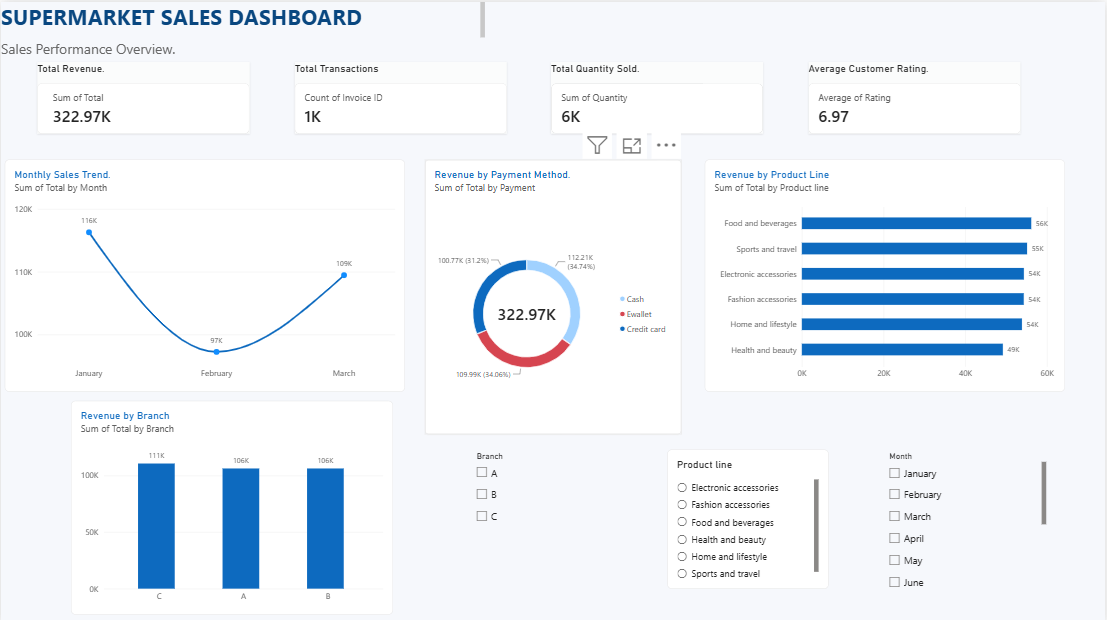

This screenshot's page, from the dashboard's own definition file:
{"tool":"powerbi","page":{"name":"Page 1","canvas":[1920,1080],"ordinal":0},"visuals":[{"type":"cardVisual","title":"Total Revenue.","fields":{"Data":["Sum(supermarket_sales.Total)"]},"box":[62,104,369.2,125],"z":0},{"type":"cardVisual","title":"Total Transactions","fields":{"Data":["CountNonNull(supermarket_sales.Invoice ID)"]},"box":[509.9,104,369,125],"z":1000},{"type":"cardVisual","title":"Total Quantity Sold.","fields":{"Data":["Sum(supermarket_sales.Quantity)"]},"box":[957.5,104,369,125],"z":2000},{"type":"cardVisual","title":"Average Customer Rating.","fields":{"Data":["Avg(supermarket_sales.Rating)"]},"box":[1405.1,104,369,125],"z":3000},{"type":"clusteredBarChart","title":"Revenue by Product Line","fields":{"Category":["supermarket_sales.Product line"],"Y":["Sum(supermarket_sales.Total)"]},"box":[1224,274,626,404],"z":4000},{"type":"clusteredColumnChart","title":"Revenue by Branch","fields":{"Category":["supermarket_sales.Branch"],"Y":["Sum(supermarket_sales.Total)"]},"box":[122,694,560,372],"z":5000},{"type":"lineChart","title":"Monthly Sales Trend.","fields":{"Category":["supermarket_sales.Date.Variation.Date Hierarchy.Month"],"Y":["Sum(supermarket_sales.Total)"]},"box":[6,274,696,404],"z":6000},{"type":"donutChart","title":"Revenue by Payment Method.","fields":{"Category":["supermarket_sales.Payment"],"Y":["Sum(supermarket_sales.Total)"]},"box":[738,274,446,478],"z":7000},{"type":"textbox","box":[0,0,841.5,65.1],"z":8000},{"type":"listSlicer","fields":{"Values":["supermarket_sales.Product line"]},"box":[1158,778,280.8,242],"z":9000},{"type":"slicer","fields":{"Values":["supermarket_sales.Branch"]},"box":[820,780,280.8,242.3],"z":10000},{"type":"textbox","box":[0,65.4,353.8,40.4],"z":11000},{"type":"slicer","fields":{"Values":["supermarket_sales.Date.Variation.Date Hierarchy.Month"]},"box":[1536,780,280.8,242],"z":12000}]}

Visuals, with their boxes in screenshot pixels (x1, y1, x2, y2), scaled from the page's 1920x1080 canvas onto the 1107x620 screenshot:
"Total Revenue." cardVisual: bbox=[36, 60, 249, 131]
"Total Transactions" cardVisual: bbox=[294, 60, 507, 131]
"Total Quantity Sold." cardVisual: bbox=[552, 60, 765, 131]
"Average Customer Rating." cardVisual: bbox=[810, 60, 1023, 131]
"Revenue by Product Line" clusteredBarChart: bbox=[706, 157, 1067, 389]
"Revenue by Branch" clusteredColumnChart: bbox=[70, 398, 393, 612]
"Monthly Sales Trend." lineChart: bbox=[3, 157, 405, 389]
"Revenue by Payment Method." donutChart: bbox=[426, 157, 683, 432]
textbox: bbox=[0, 0, 485, 37]
listSlicer - supermarket_sales.Product line: bbox=[668, 447, 830, 586]
slicer - supermarket_sales.Branch: bbox=[473, 448, 635, 587]
textbox: bbox=[0, 38, 204, 61]
slicer - supermarket_sales.Date.Variation.Date Hierarchy.Month: bbox=[886, 448, 1047, 587]
